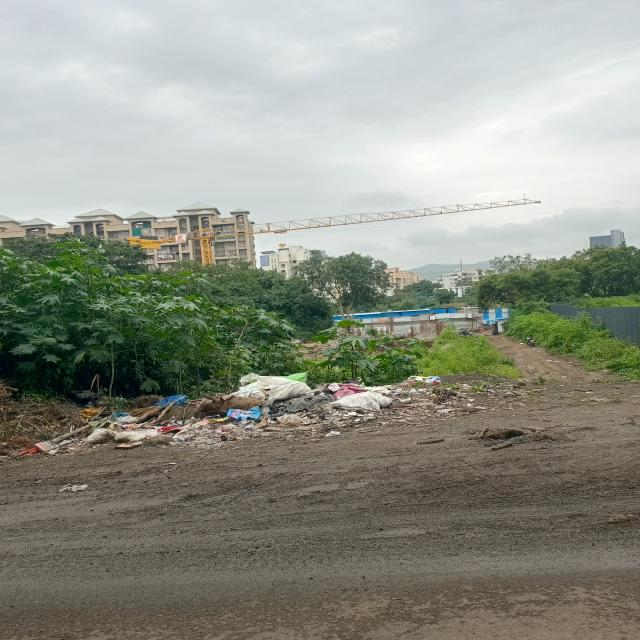garbage: (105, 371, 443, 439), (3, 386, 102, 452)
